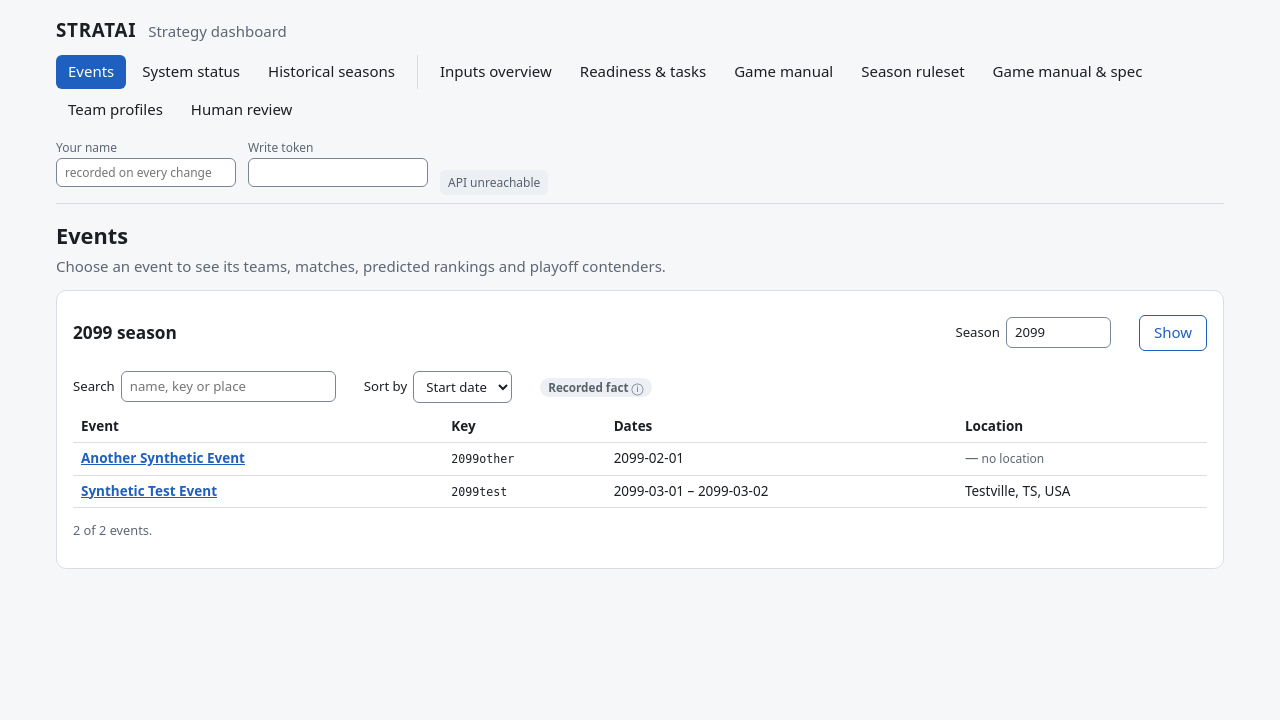
Scenario: app shell › moves focus to the main region and names the page after a navigation (WCAG 2.4.3, 2.4.2)
The width and height of the screenshot is (1280, 720).
Check: the heading "Events" is shown, box top-left (56, 220), bottom-right (128, 252)
Click the link "System status" at (191, 71), box top-left (142, 61), bottom-right (240, 81)
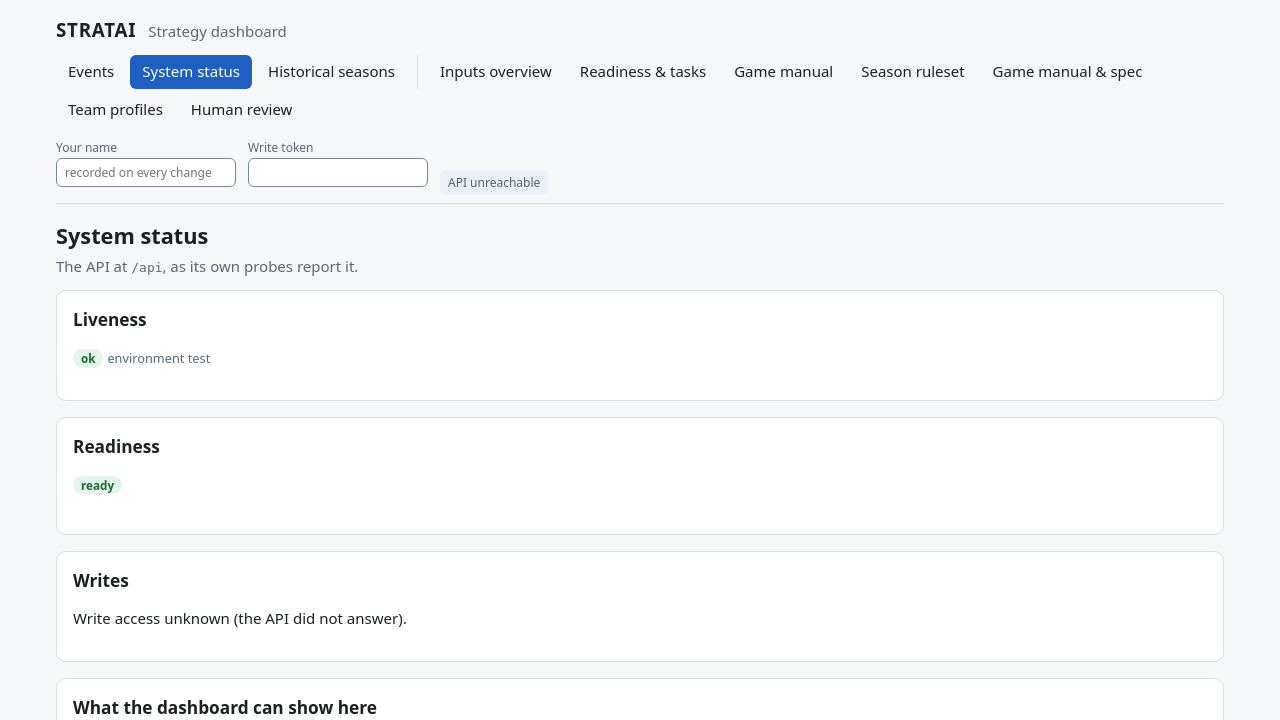
Check: the heading "System status" is shown, box top-left (56, 220), bottom-right (208, 252)
